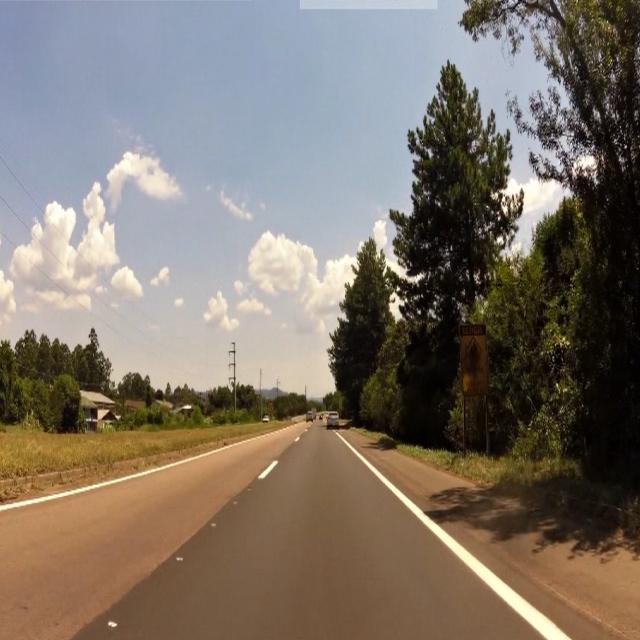A-24: (465, 338, 484, 368)
